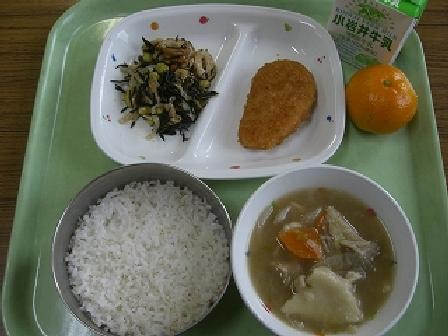Citrus: (342, 57, 419, 137)
Milk: (317, 4, 440, 64)
Rice: (46, 158, 240, 332)
Soups: (227, 170, 421, 333)
cutlet: (234, 54, 330, 158)
salad with sauce: (110, 37, 222, 137)
